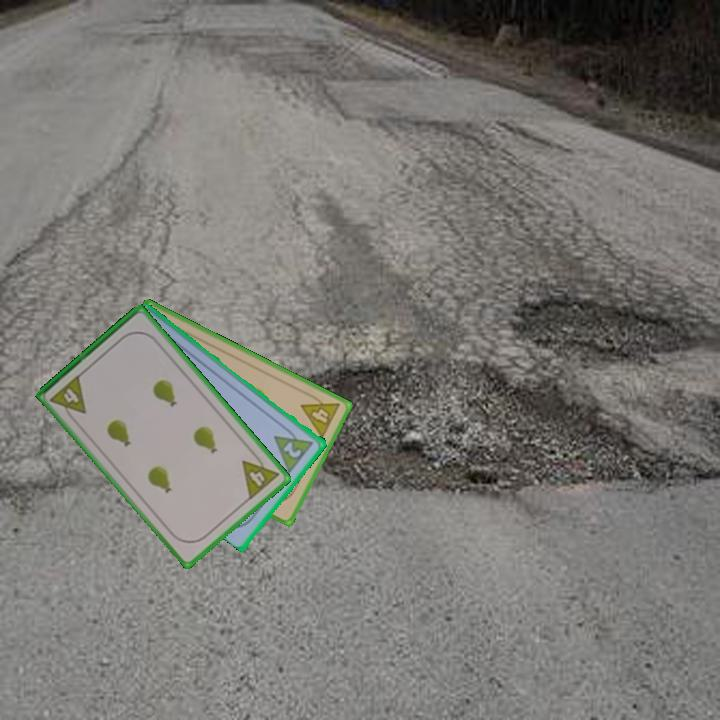2p: (280, 437, 305, 461)
4p: (238, 448, 282, 503), (297, 389, 343, 441), (47, 371, 89, 424)
